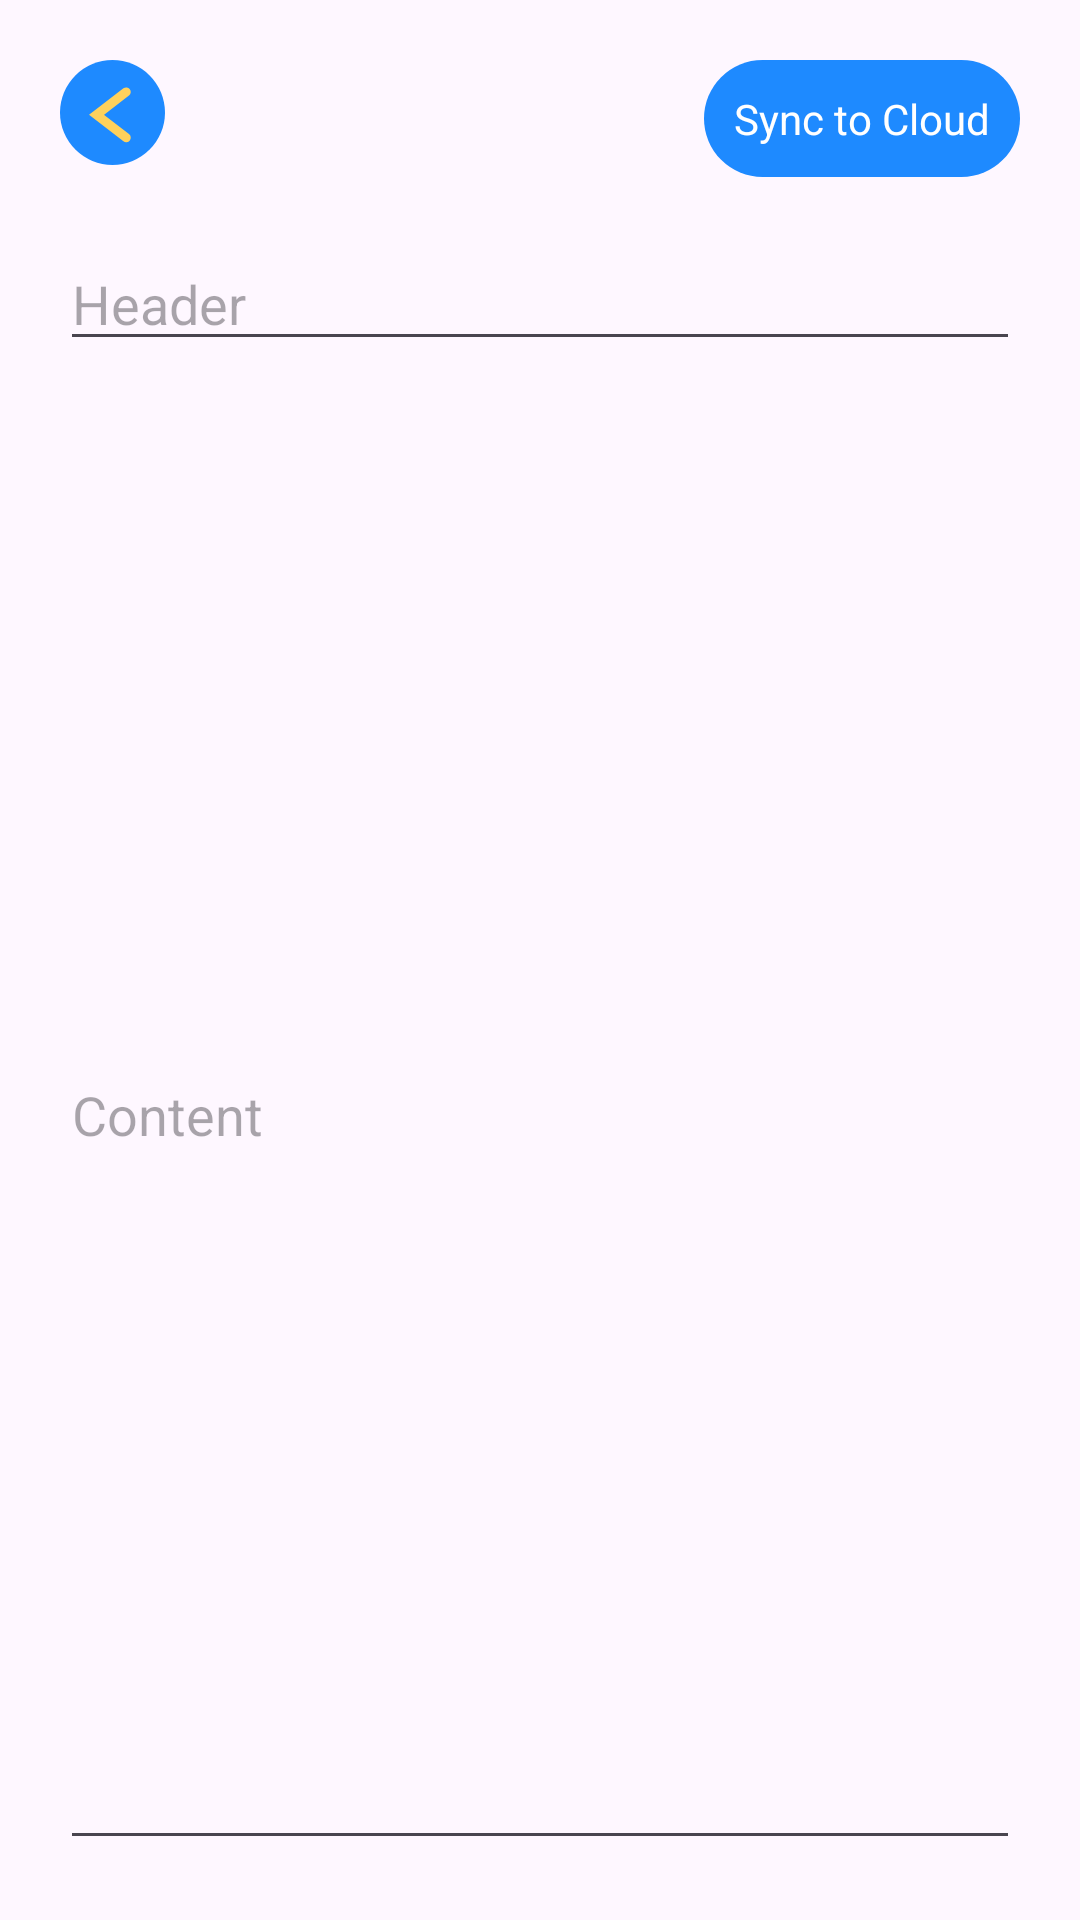

Screen size 1080w x 1920h. Icon name, then its box in pixels as box(x1, y1, x2, y2):
arrowcircleback: box(60, 60, 165, 165)
